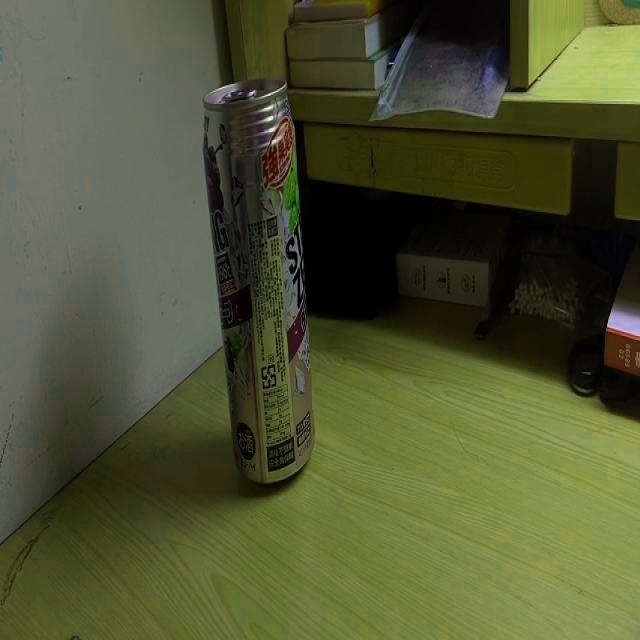Liquor: (202, 76, 314, 485)
